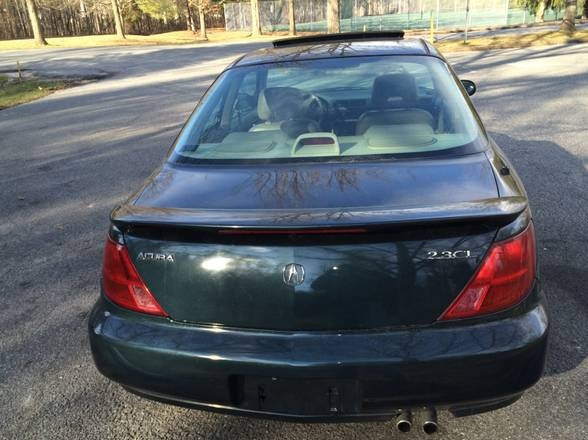acura: (75, 32, 560, 437)
